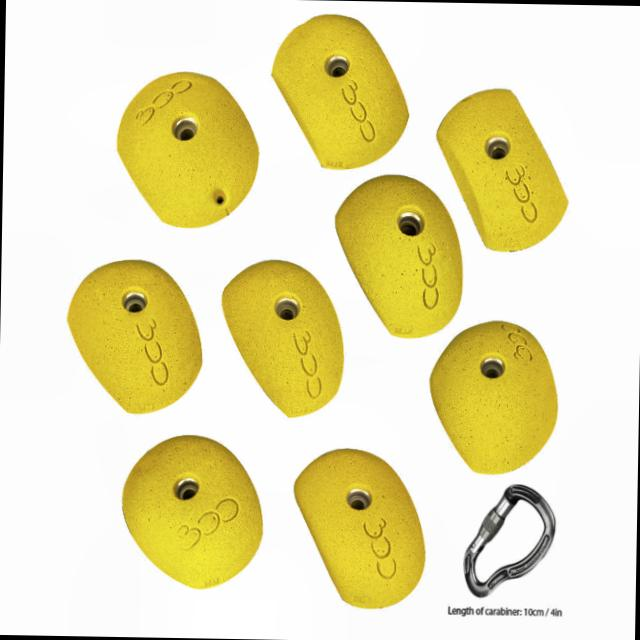Hold: (262, 11, 410, 178), (110, 67, 258, 233), (288, 448, 432, 616), (111, 432, 262, 589), (69, 260, 207, 421), (429, 316, 558, 482), (216, 259, 345, 422), (432, 88, 565, 246), (328, 178, 462, 330)
